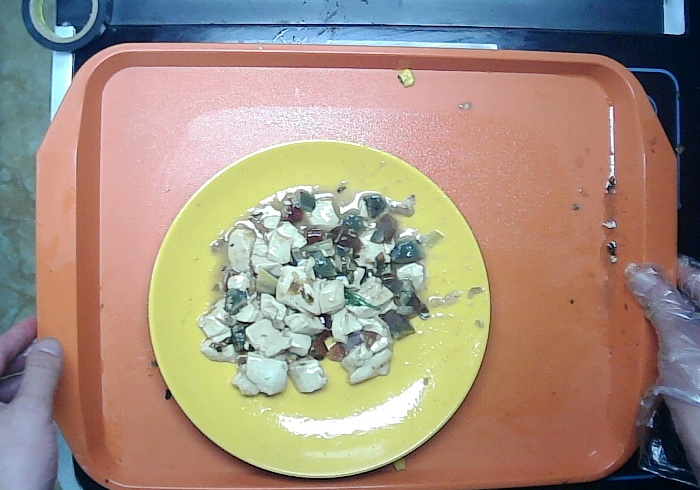HZYJPL-Huang_Se_Yuan_Pan: (143, 128, 495, 481)
